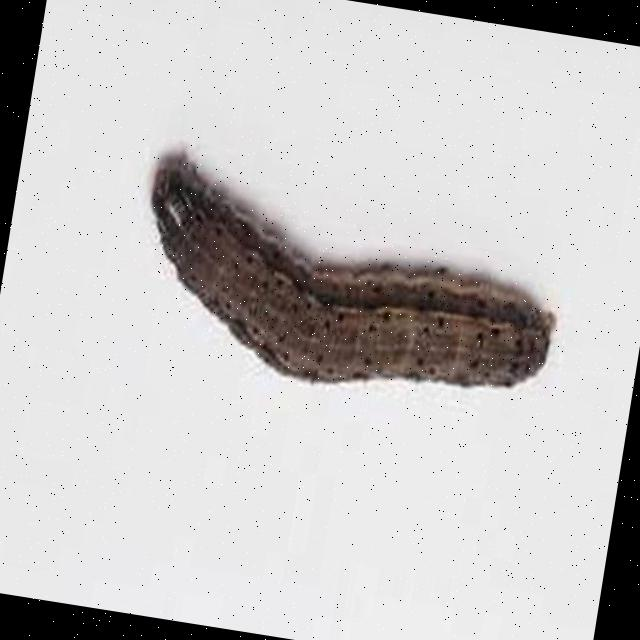worm: (126, 147, 576, 425)
